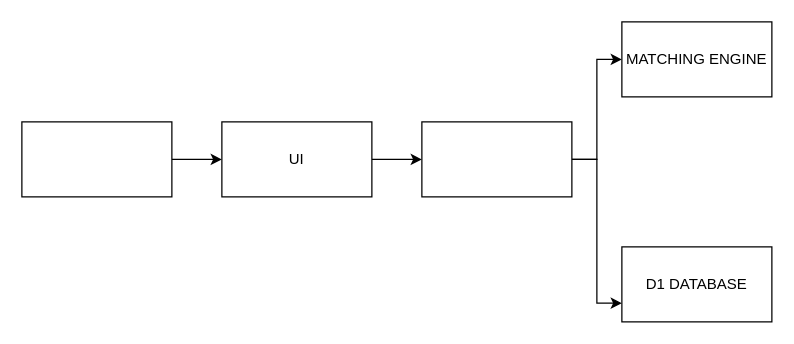
The diagram is 794 pixels wide and 344 high, and some of its shapes have lost their labels. The shapes that lost their labels are listed below. From the top down, each one's centre as x and y in pixels, then its label:
the point at 96,159: USER
the point at 496,159: WORKER API
